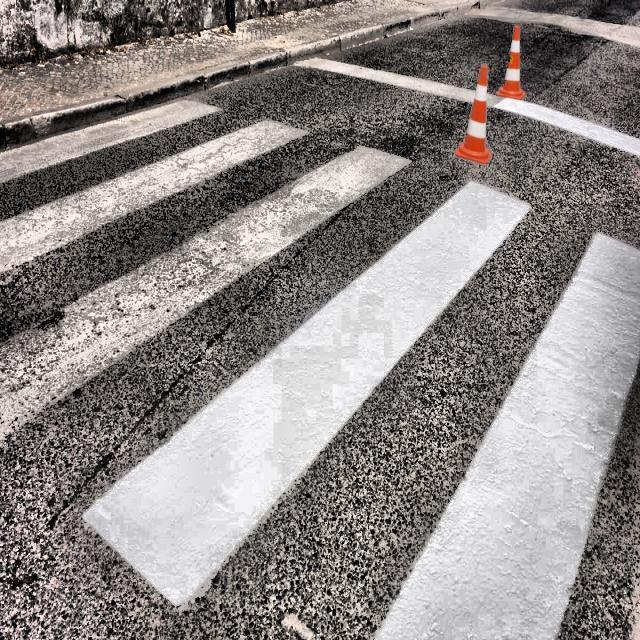crosswalk: (0, 96, 640, 640)
